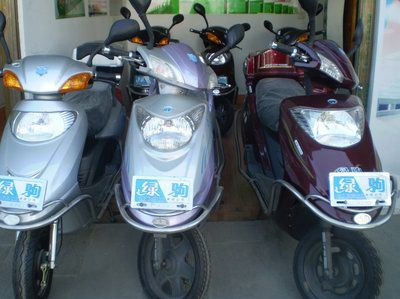non-vehicle: (238, 18, 395, 296), (105, 12, 234, 295), (1, 16, 112, 294)
